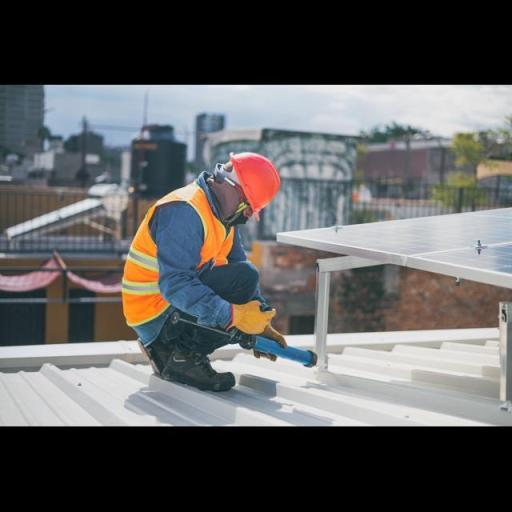boots: (166, 339, 238, 398), (134, 334, 176, 374)
gloves: (232, 294, 274, 344), (251, 311, 285, 369)
helmet: (228, 147, 280, 220)
vest: (117, 174, 242, 334)
